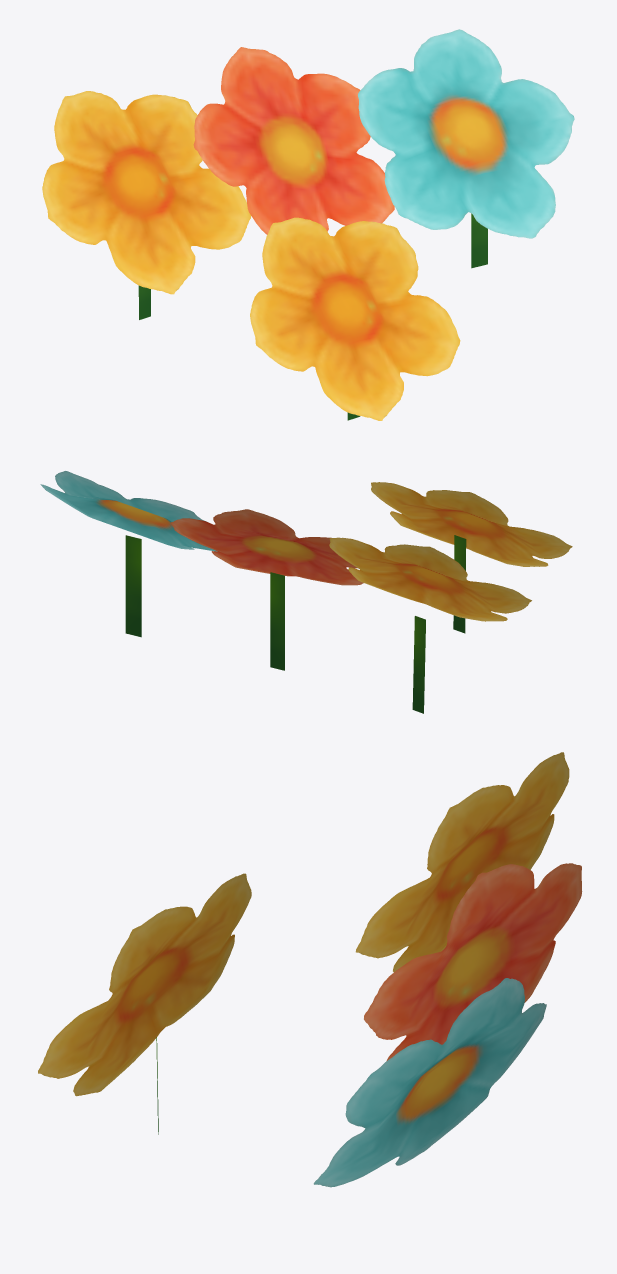
The model's file is flower_08.FBX.
3 views of the same model, one above another, from view 1: azimuth 30°, elevation 25°; view 2: azimuth 150°, elevation 25°; view 3: azimuth 270°, elevation 25° (orthographic). The views are drawn at different scales.
Parts seen in each view (by area): view 1: NGon015; view 2: NGon015; view 3: NGon015.
Part boxes in pixels (bbox=[...]): NGon015: bbox=[42, 29, 574, 420]; NGon015: bbox=[40, 471, 572, 713]; NGon015: bbox=[38, 752, 582, 1187].
Size of the model in its own units: 115 by 53.29 by 87.39.
